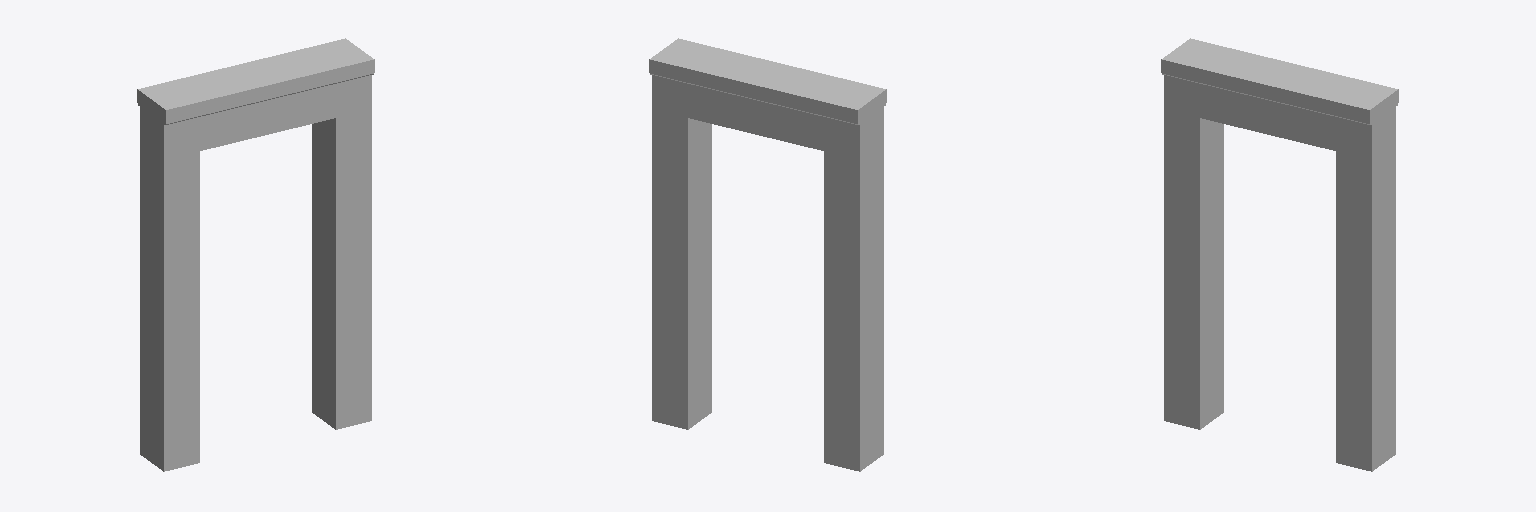
The model's file is MarcoPuerta.obj.
The picture shows the model from 3 angles: view 1: azimuth 30°, elevation 25°; view 2: azimuth 150°, elevation 25°; view 3: azimuth 330°, elevation 25°; orthographic projection.
Parts seen in each view (by area): view 1: Pared_con_puerta; view 2: Pared_con_puerta; view 3: Pared_con_puerta.
Boxes of the visible parts, box(x1,y1,x2,y2) form: Pared_con_puerta: box(137, 38, 374, 471); Pared_con_puerta: box(649, 38, 886, 471); Pared_con_puerta: box(1161, 38, 1398, 471).
Size of the model in its own units: 150 by 250 by 35.8.